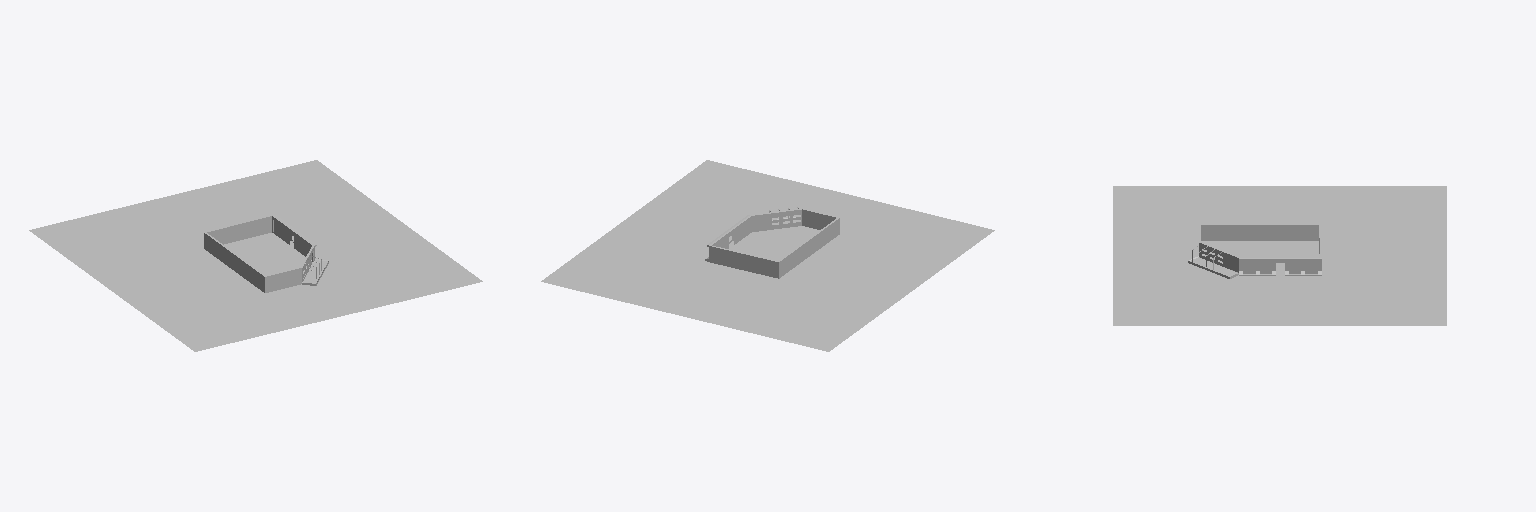
Rendered from house.obj.
3 views of the same model, side by side, from view 1: azimuth 30°, elevation 25°; view 2: azimuth 150°, elevation 25°; view 3: azimuth 270°, elevation 25° (orthographic).
Parts seen in each view (by area): view 1: Plane, Cube, Cube.1, Cube.4, Cube.3; view 2: Plane, Cube.1, Cube, Cube.3; view 3: Plane, Cube, Cube.3, Cube.2.
Boxes of the visible parts, <box> form: Plane: <box>29,160,482,351</box>; Cube: <box>204,232,264,291</box>; Cube.1: <box>204,215,273,248</box>; Cube.4: <box>264,267,301,292</box>; Cube.3: <box>301,245,328,285</box>; Plane: <box>541,160,994,351</box>; Cube.1: <box>709,245,779,278</box>; Cube: <box>778,217,838,277</box>; Cube.3: <box>751,208,802,231</box>; Plane: <box>1113,186,1446,325</box>; Cube: <box>1199,224,1320,240</box>; Cube.3: <box>1188,242,1239,278</box>; Cube.2: <box>1239,257,1321,275</box>.
Bounding box in the file's own units: 3729 × 407 × 3729.